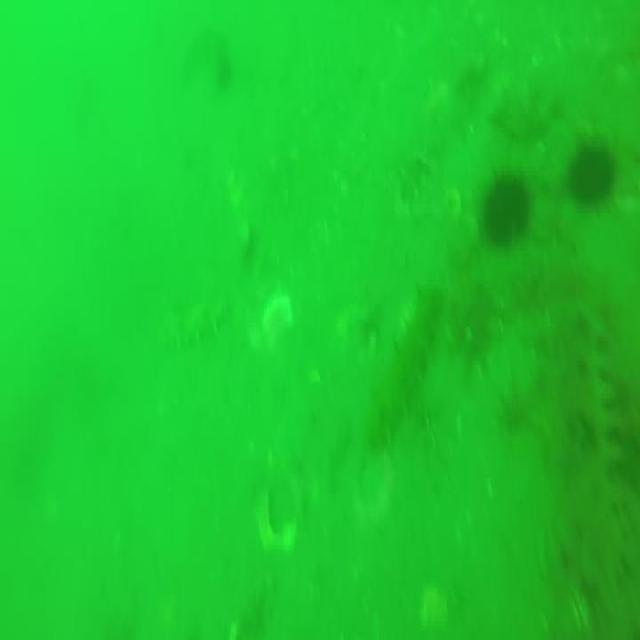echinus: (478, 172, 530, 250), (564, 144, 618, 204)
holothurian: (366, 274, 446, 458), (396, 39, 486, 200), (180, 292, 230, 343)
scallop: (260, 294, 292, 344)
